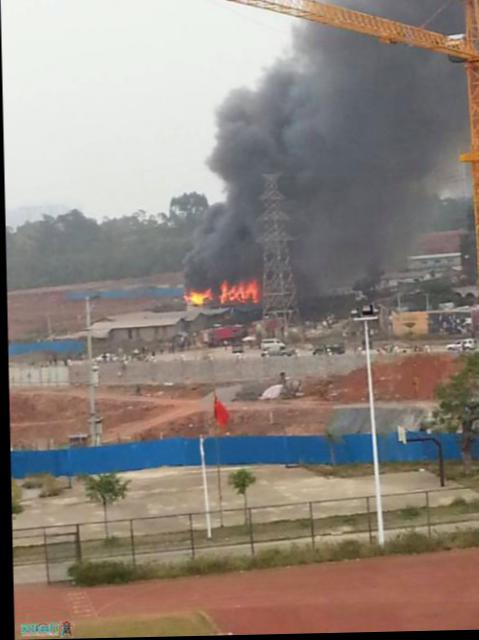fire: (217, 279, 257, 305), (186, 288, 211, 307)
